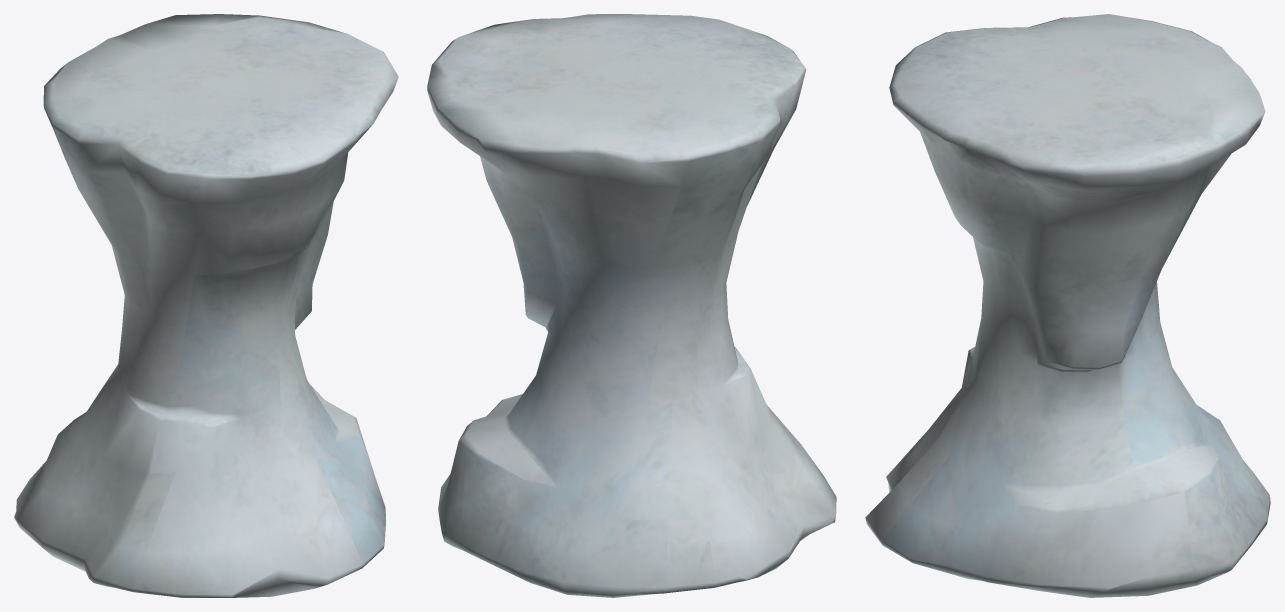
The model's file is P_RockDesert_CliffA02.obj.
3 renders of one model, left to right at view 1: azimuth 30°, elevation 25°; view 2: azimuth 150°, elevation 25°; view 3: azimuth 270°, elevation 25°, orthographic. The views are drawn at different scales.
Size of the model in its own units: 40.3 by 50.8 by 40.69.
